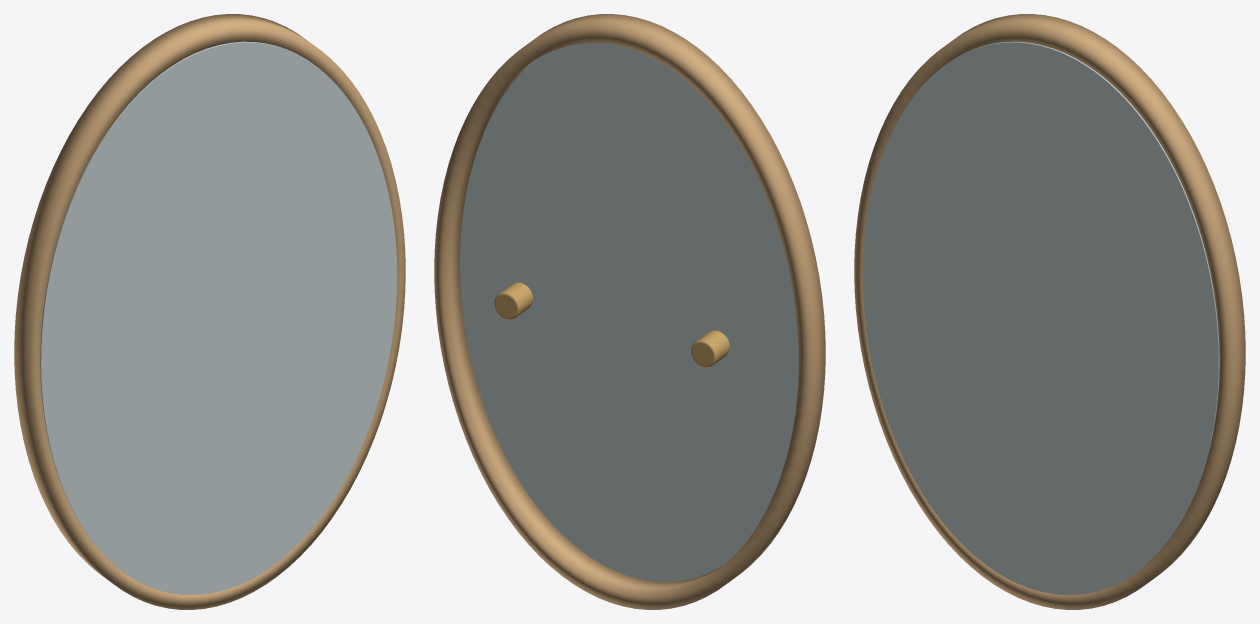
Rendered from Wall_Mirror.glb.
The picture shows the model from 3 angles, left to right: view 1: azimuth 30°, elevation 25°; view 2: azimuth 150°, elevation 25°; view 3: azimuth 330°, elevation 25°; orthographic projection.
Parts seen in each view (by area): view 1: Wall_Mirror_Mesh; view 2: Wall_Mirror_Mesh; view 3: Wall_Mirror_Mesh.
Boxes of the visible parts, x1,y1,x2,y2 form: Wall_Mirror_Mesh: (14,14,405,609); Wall_Mirror_Mesh: (434,14,825,609); Wall_Mirror_Mesh: (854,14,1245,609).
Size of the model in its own units: 0.71 by 1.04 by 0.113.
